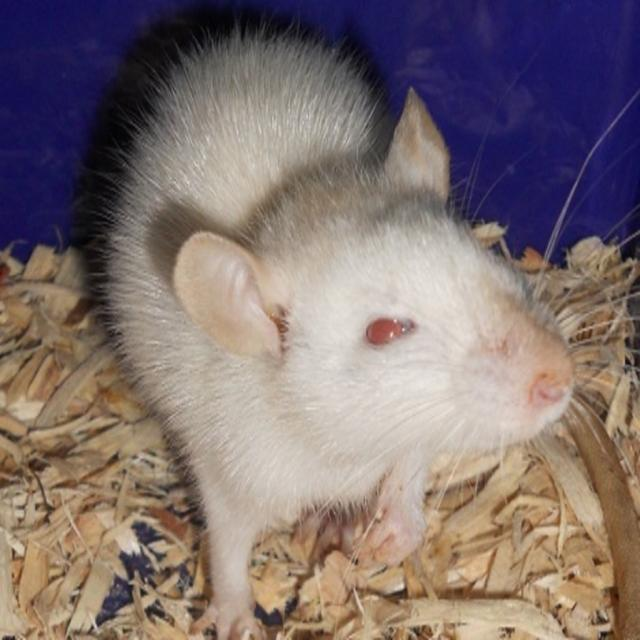rat: (90, 21, 639, 638)
